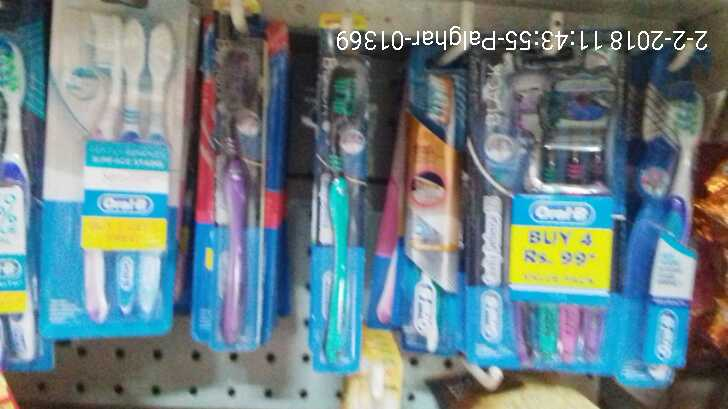oralb: (504, 50, 619, 372), (70, 4, 168, 333), (641, 60, 708, 390), (210, 42, 266, 359), (417, 68, 465, 352), (323, 53, 365, 372), (1, 30, 39, 359)
